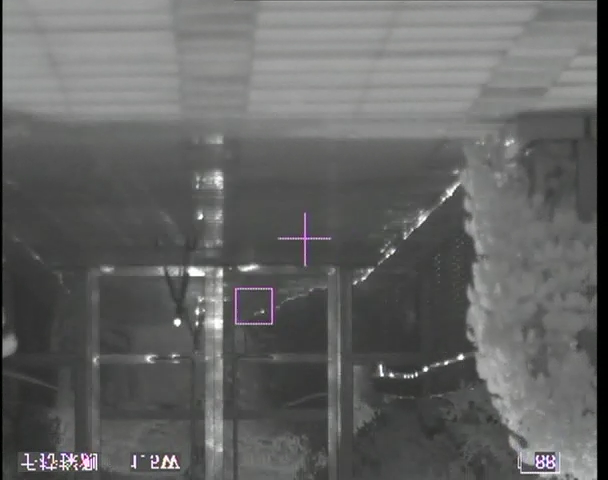my: (172, 317, 182, 328)
